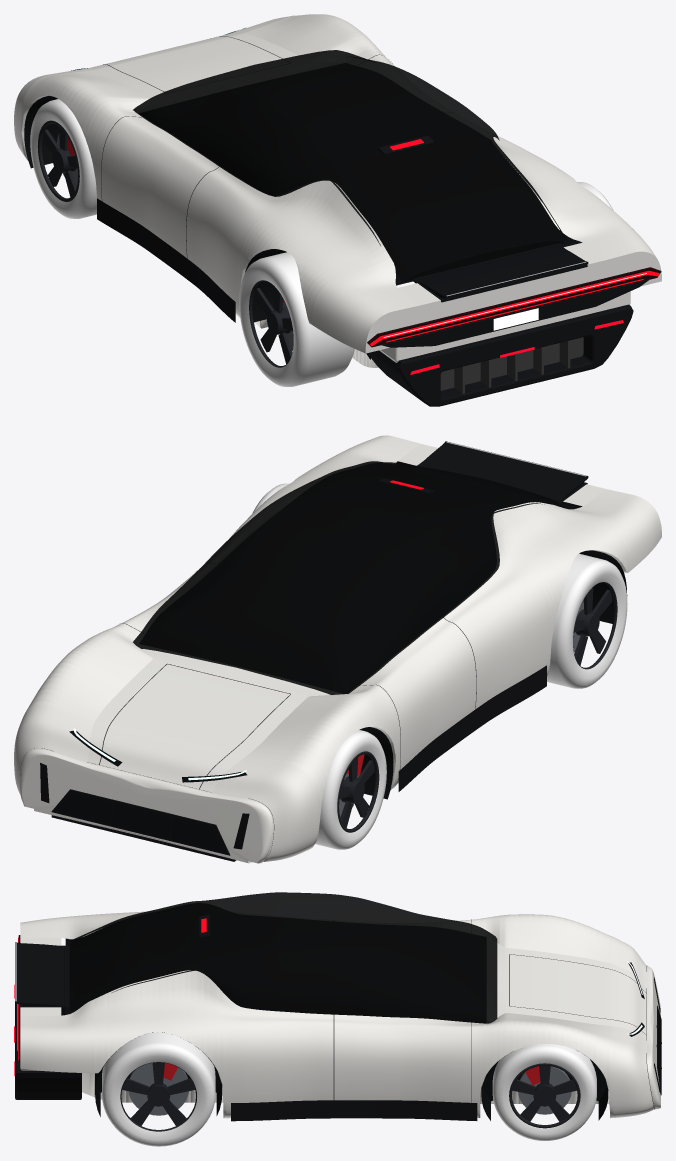
File: xwave-x1.glb
The picture shows the model from 3 angles, top to bottom: view 1: azimuth 30°, elevation 25°; view 2: azimuth 150°, elevation 25°; view 3: azimuth 270°, elevation 25°; orthographic projection. The views are drawn at different scales.
Parts seen in each view (by area): view 1: Body_Paint, Glass_Canopy, Rear_LowerBumper, Tyre_RL, Trim_GlossBlack, Spoiler, Tyre_FL, Diffuser, Trim_SatinBlack, Trim_LEDHousing, Rim_FL, Rim_RL (+4 smaller); view 2: Body_Paint, Glass_Canopy, Tyre_RL, Spoiler, Tyre_FL, Trim_WheelLiner, Trim_SatinBlack, Front_Intake, Rim_FL, Rim_RL, Wheel_Liners, Body_PanelGaps (+1 smaller); view 3: Body_Paint, Glass_Canopy, Tyre_RR, Tyre_FR, Trim_SatinBlack, Spoiler, Rim_FR, Rim_RR, Rear_LowerBumper, Wheel_Liners, Disc_RR, Disc_FR (+3 smaller).
Boxes of the visible parts, <box> form: Body_Paint: <box>14,14,661,367</box>; Glass_Canopy: <box>133,50,567,281</box>; Rear_LowerBumper: <box>367,304,633,406</box>; Tyre_RL: <box>239,252,354,386</box>; Trim_GlossBlack: <box>378,135,648,347</box>; Spoiler: <box>416,245,588,298</box>; Tyre_FL: <box>30,99,96,218</box>; Diffuser: <box>440,337,583,393</box>; Trim_SatinBlack: <box>97,198,235,322</box>; Trim_LEDHousing: <box>367,267,661,347</box>; Rim_FL: <box>37,120,79,201</box>; Rim_RL: <box>249,280,293,367</box>; Body_Paint: <box>14,435,661,863</box>; Glass_Canopy: <box>133,461,565,694</box>; Tyre_RL: <box>547,553,627,688</box>; Spoiler: <box>418,441,588,502</box>; Tyre_FL: <box>315,730,386,849</box>; Trim_WheelLiner: <box>56,793,225,851</box>; Trim_SatinBlack: <box>398,665,546,791</box>; Front_Intake: <box>40,763,249,855</box>; Rim_FL: <box>337,751,379,832</box>; Rim_RL: <box>573,582,617,669</box>; Wheel_Liners: <box>359,550,627,799</box>; Body_PanelGaps: <box>20,571,476,855</box>; Body_Paint: <box>20,911,660,1118</box>; Glass_Canopy: <box>69,892,497,1023</box>; Tyre_RR: <box>102,1032,215,1146</box>; Tyre_FR: <box>492,1044,596,1140</box>; Trim_SatinBlack: <box>231,1100,477,1121</box>; Spoiler: <box>15,942,66,1006</box>; Rim_FR: <box>509,1063,580,1128</box>; Rim_RR: <box>120,1062,196,1131</box>; Rear_LowerBumper: <box>15,1004,81,1099</box>; Wheel_Liners: <box>95,1032,608,1120</box>; Disc_RR: <box>128,1063,188,1115</box>; Disc_FR: <box>518,1066,571,1114</box>.
Bounding box in the file's own units: 2.13 × 1.18 × 4.22.
